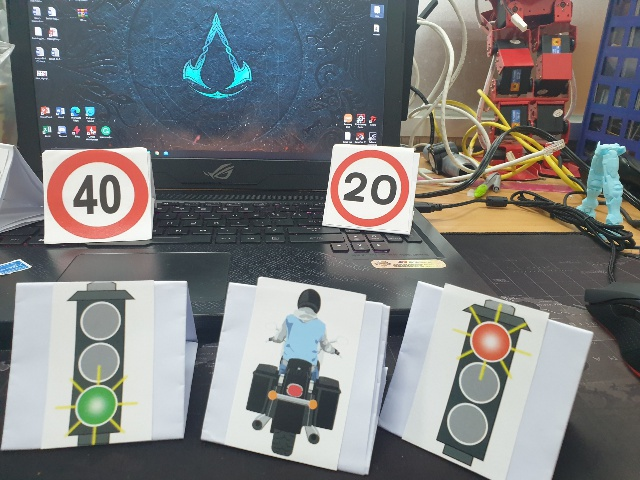Green Light: (59, 281, 140, 444)
Limit 20: (331, 149, 410, 225)
Limit 40: (48, 150, 149, 238)
Motorcycle: (244, 288, 345, 464)
Red Light: (435, 300, 529, 470)
